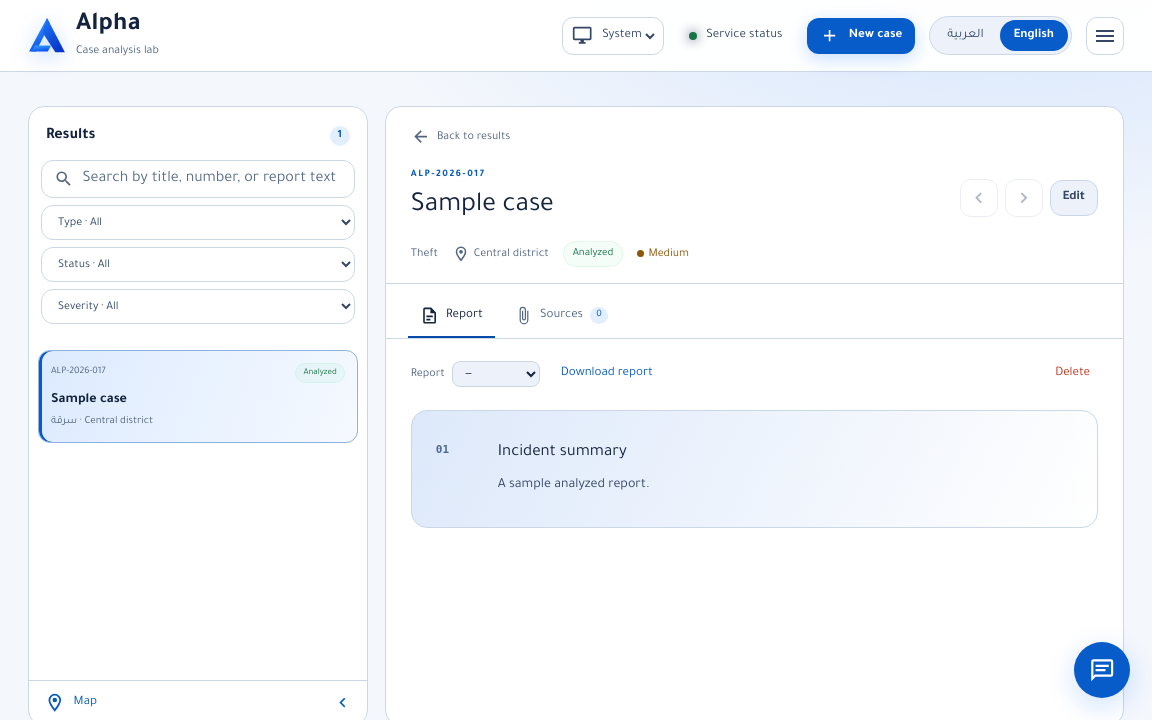
Test case: application shell › renders a previous structured report with the report design
The width and height of the screenshot is (1152, 720).
expect the heading "Incident summary" is shown: met, box x1=498 y1=444 x2=627 y2=461
Select "Previous 1" in the dropdown labelled "Report" at (496, 374), box x1=452 y1=361 x2=540 y2=387
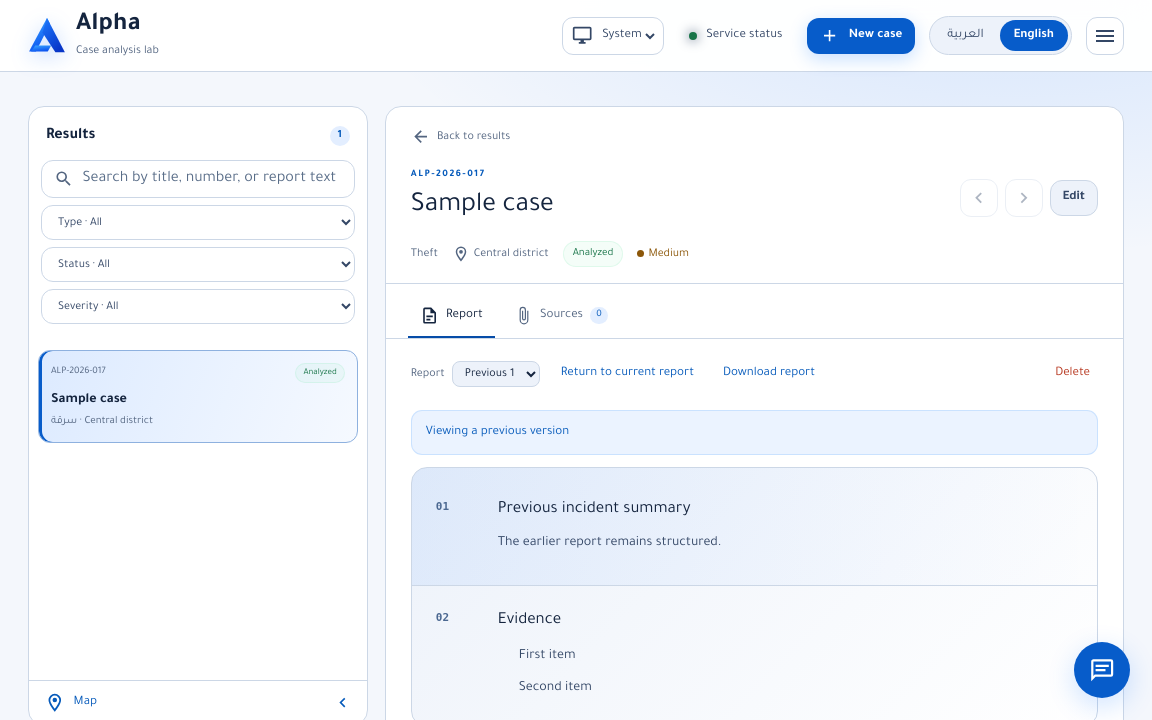
expect the heading "Previous incident summary" is shown: met, box x1=498 y1=501 x2=690 y2=518
expect the heading "Evidence" is shown: met, box x1=498 y1=612 x2=561 y2=629
expect the text "The earlier report remains structured." is shown: met, box x1=498 y1=536 x2=722 y2=550
